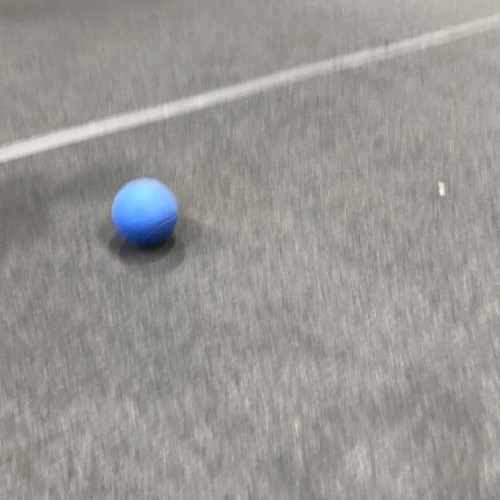blue: (110, 175, 181, 249)
